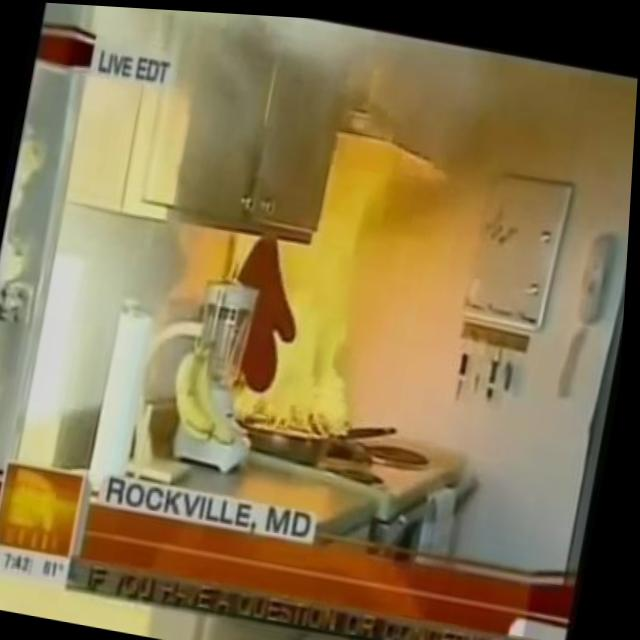fire: (231, 185, 390, 446)
